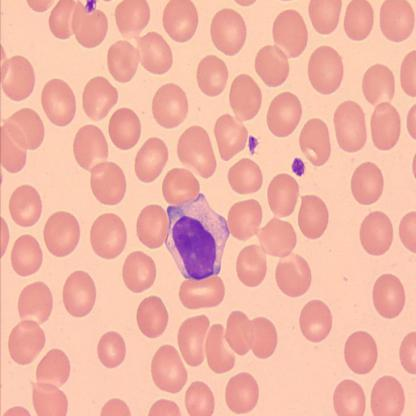Lymphocyte: (165, 192, 230, 279)
